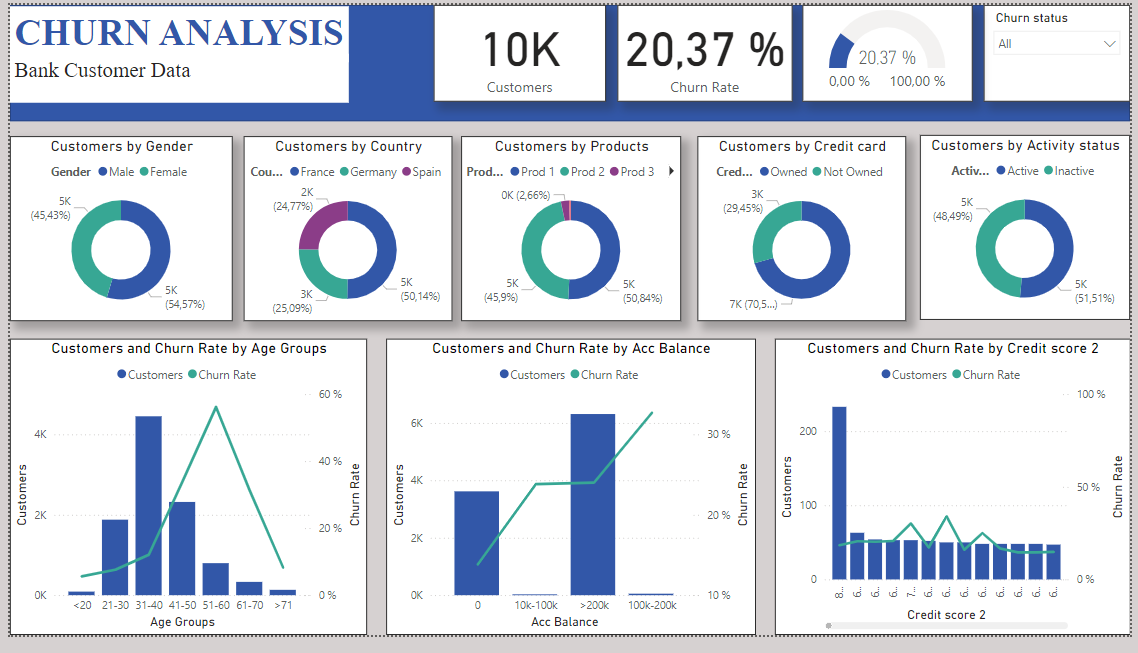

The dashboard page shown, as its layout file describes it:
{"tool":"powerbi","page":{"name":"Page 1","canvas":[1280,720],"ordinal":0},"visuals":[{"type":"shape","box":[0,0,1280,132.9],"z":0},{"type":"donutChart","fields":{"Category":["Customer Data.Gender"],"Y":["Customer Data.Customers"]},"box":[0,150,254.3,211.4],"z":1000},{"type":"donutChart","fields":{"Category":["Customer Data.Activity status"],"Y":["Customer Data.Customers"]},"box":[1040,148.6,240,211.4],"z":2000},{"type":"donutChart","fields":{"Y":["Customer Data.Customers"],"Category":["Customer Data.Credit card"]},"box":[785.7,150,238.6,211.4],"z":3000},{"type":"donutChart","fields":{"Y":["Customer Data.Customers"],"Category":["Customer Data.Country"]},"box":[267.1,150,238.6,211.4],"z":4000},{"type":"donutChart","fields":{"Y":["Customer Data.Customers"],"Category":["Customer Data.Products"]},"box":[515.7,150,251.4,211.4],"z":5000},{"type":"card","fields":{"Values":["Customer Data.Customers"]},"box":[484.3,0,197.1,110],"z":6000},{"type":"lineStackedColumnComboChart","fields":{"Category":["Age groups.Age Groups"],"Y":["Customer Data.Customers"],"Y2":["Customer Data.Churn Rate"]},"box":[0,382,408,338],"z":7000},{"type":"lineStackedColumnComboChart","fields":{"Category":["Acc Balance group.Acc Balance"],"Y2":["Customer Data.Churn Rate"],"Y":["Customer Data.Customers"]},"box":[430,382,422,338],"z":8000},{"type":"card","fields":{"Values":["Customer Data.Churn Rate"]},"box":[694.3,0,200,110],"z":9000},{"type":"lineStackedColumnComboChart","fields":{"Y":["Customer Data.Customers"],"Y2":["Customer Data.Churn Rate"],"Category":["Customer Data.Credit score 2"]},"box":[874,382,406,338],"z":10000},{"type":"slicer","fields":{"Values":["Customer Data.Churn status"]},"box":[1112.9,0,167.1,110],"z":11000},{"type":"gauge","fields":{"Y":["Customer Data.Churn Rate"],"MinValue":["Min(Customer Data.Min Churn Rate)"],"MaxValue":["Max(Customer Data.Max Churn Rate)"],"TargetValue":["Sum(Customer Data.Target Churn Rate)"]},"box":[905.7,0,194.3,110],"z":12000},{"type":"textbox","box":[0,1.4,387.1,64.3],"z":12001},{"type":"textbox","box":[0,55.7,387.1,55.7],"z":12002}]}

Visuals, with their boxes in screenshot pixels (x1, y1, x2, y2), scaled from the page's 1280x720 canvas onto the 1138x653 screenshot:
shape: rect(0, 0, 1137, 121)
donutChart - Customer Data.Gender x Customer Data.Customers: rect(0, 136, 226, 328)
donutChart - Customer Data.Activity status x Customer Data.Customers: rect(925, 135, 1137, 326)
donutChart - Customer Data.Customers x Customer Data.Credit card: rect(699, 136, 911, 328)
donutChart - Customer Data.Customers x Customer Data.Country: rect(237, 136, 450, 328)
donutChart - Customer Data.Customers x Customer Data.Products: rect(458, 136, 682, 328)
card - Customer Data.Customers: rect(431, 0, 606, 100)
lineStackedColumnComboChart - Age groups.Age Groups x Customer Data.Customers: rect(0, 346, 363, 652)
lineStackedColumnComboChart - Acc Balance group.Acc Balance x Customer Data.Churn Rate: rect(382, 346, 757, 652)
card - Customer Data.Churn Rate: rect(617, 0, 795, 100)
lineStackedColumnComboChart - Customer Data.Customers x Customer Data.Churn Rate: rect(777, 346, 1137, 652)
slicer - Customer Data.Churn status: rect(989, 0, 1137, 100)
gauge - Customer Data.Churn Rate x Min(Customer Data.Min Churn Rate): rect(805, 0, 978, 100)
textbox: rect(0, 1, 344, 60)
textbox: rect(0, 51, 344, 101)
